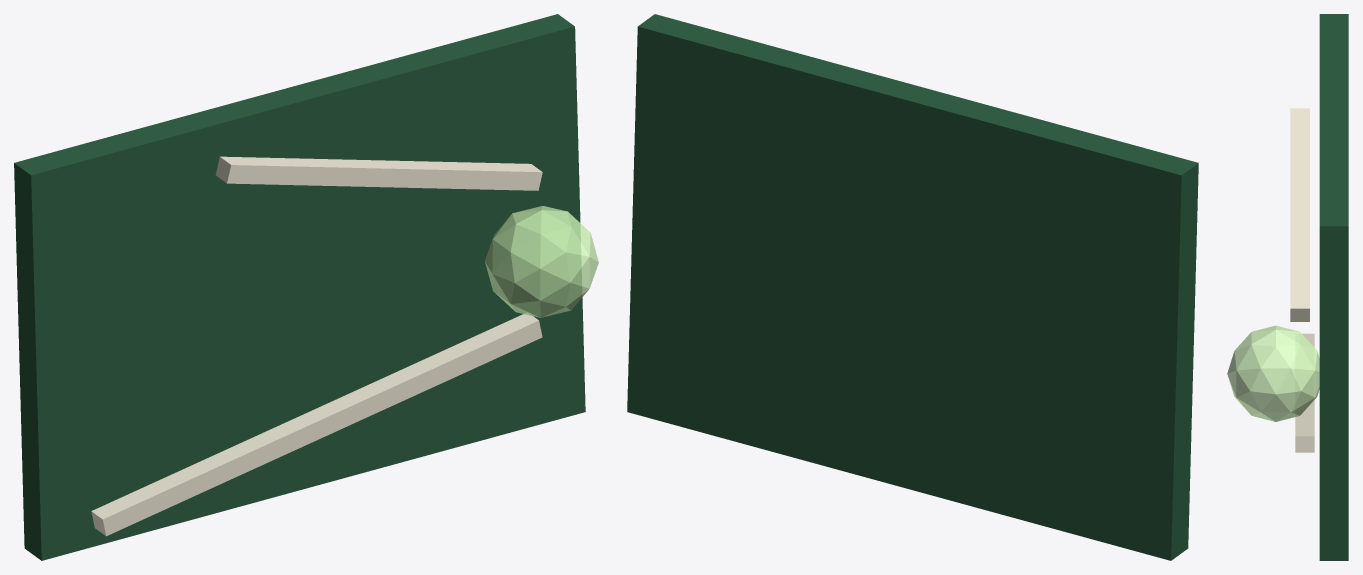
File: 02_world_prop_polish.glb
3 renders of one model, left to right at view 1: azimuth 30°, elevation 25°; view 2: azimuth 150°, elevation 25°; view 3: azimuth 270°, elevation 25°, orthographic. The views are drawn at different scales.
Visible parts, largest first — view 1: object_overlay_plate, edge_wear_a, glow_socket, edge_wear_b; view 2: object_overlay_plate; view 3: object_overlay_plate, glow_socket, edge_wear_b, edge_wear_a.
Boxes of the visible parts, left/top/right/bottom form: object_overlay_plate: left=14, top=14, right=585, bottom=560; edge_wear_a: left=91, top=313, right=542, bottom=536; glow_socket: left=485, top=206, right=598, bottom=317; edge_wear_b: left=215, top=156, right=542, bottom=190; object_overlay_plate: left=627, top=14, right=1198, bottom=560; object_overlay_plate: left=1319, top=14, right=1348, bottom=560; glow_socket: left=1227, top=325, right=1319, bottom=421; edge_wear_b: left=1290, top=108, right=1309, bottom=321; edge_wear_a: left=1295, top=333, right=1314, bottom=452.
Size of the model in its own units: 1.12 by 0.781 by 0.25.
